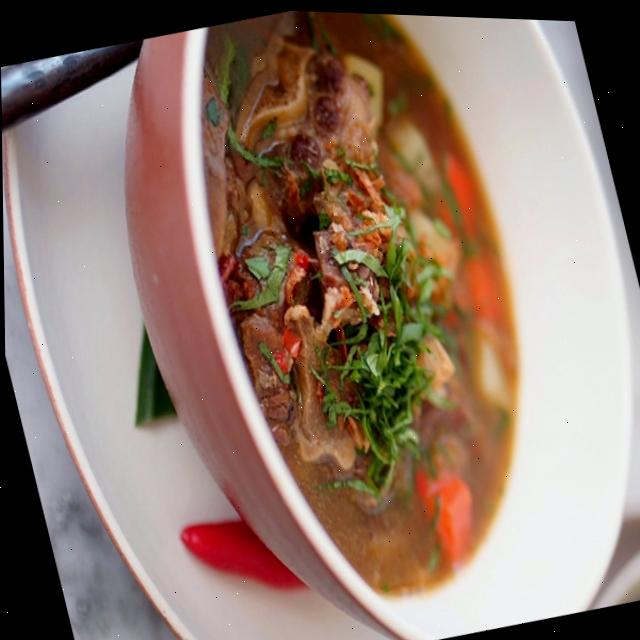汤锅炖物: (137, 4, 640, 640)
